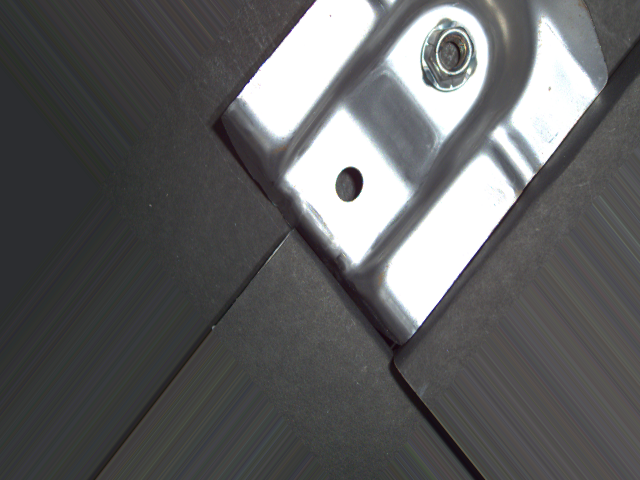good: (417, 11, 480, 99)
